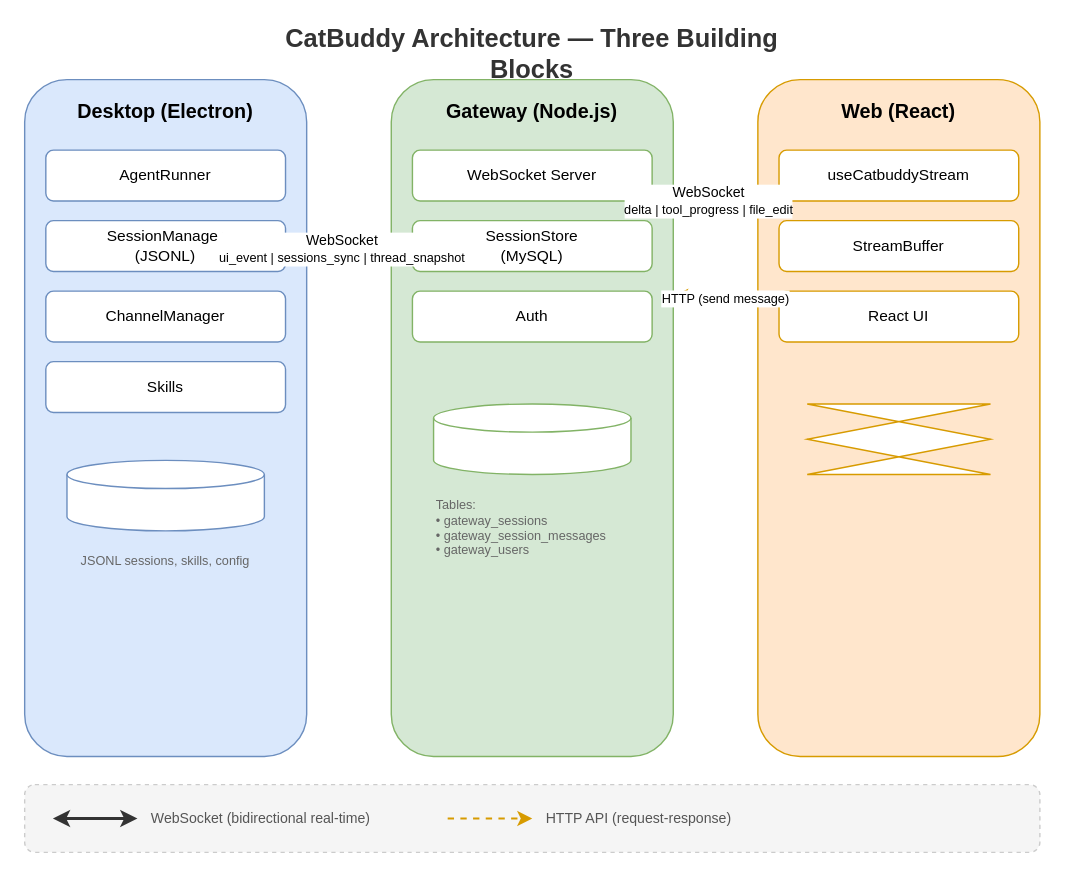
Image size: 1065x877. Some labels were removed from this diagram. Here are the shapes that lost their labels. From the top down, the centre of each, then its label:
At (531,438): "MySQL Database".
At (898,438): "Browser Runtime".
At (165,495): "File System".
